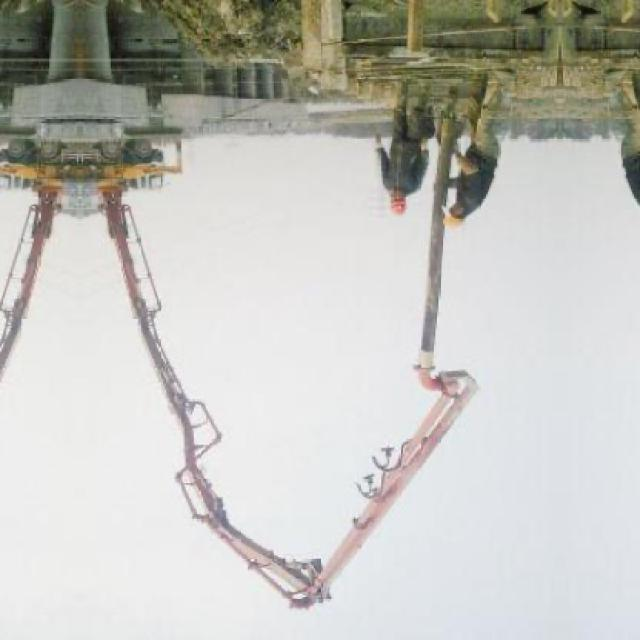con casco: (366, 160, 436, 236), (437, 165, 486, 228)
